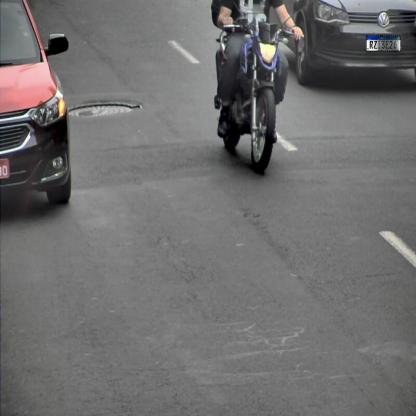PlacaM: (366, 36, 401, 52)
